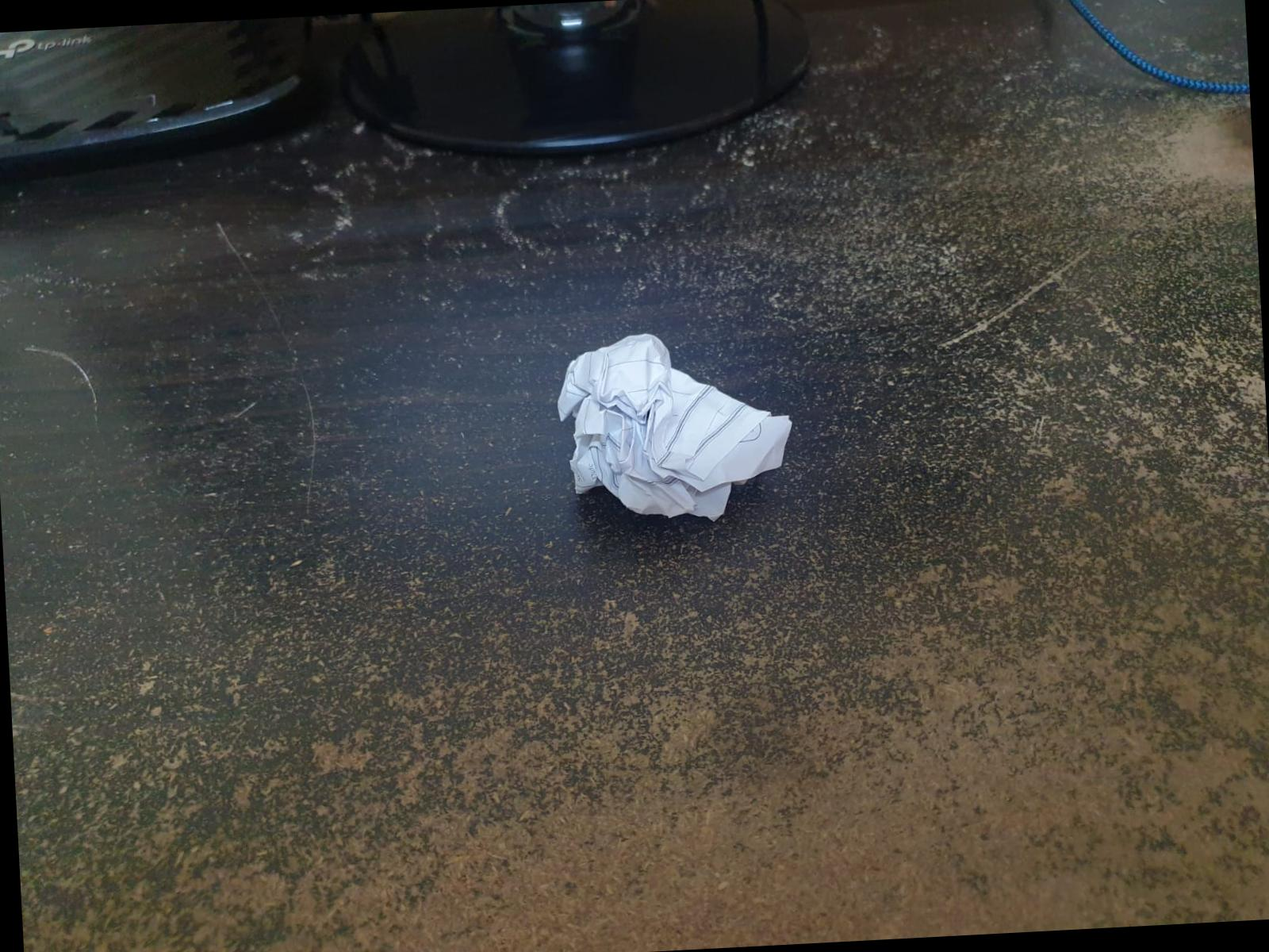Kertas: (558, 334, 791, 524)
